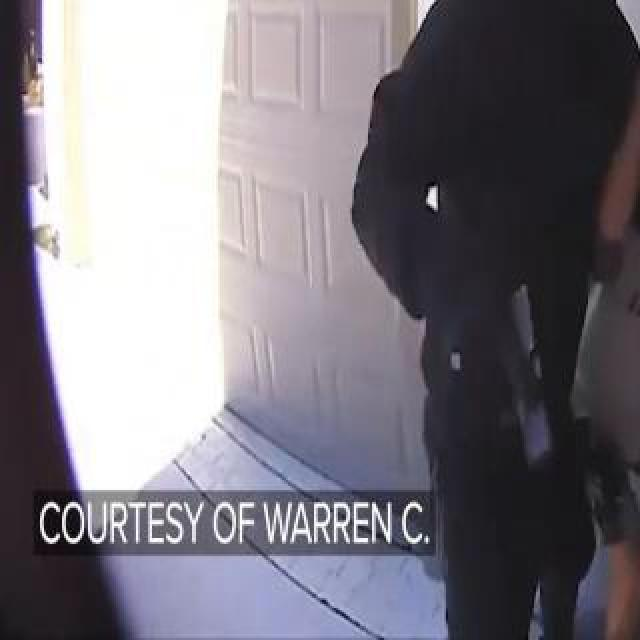Guns: (478, 272, 587, 478)
